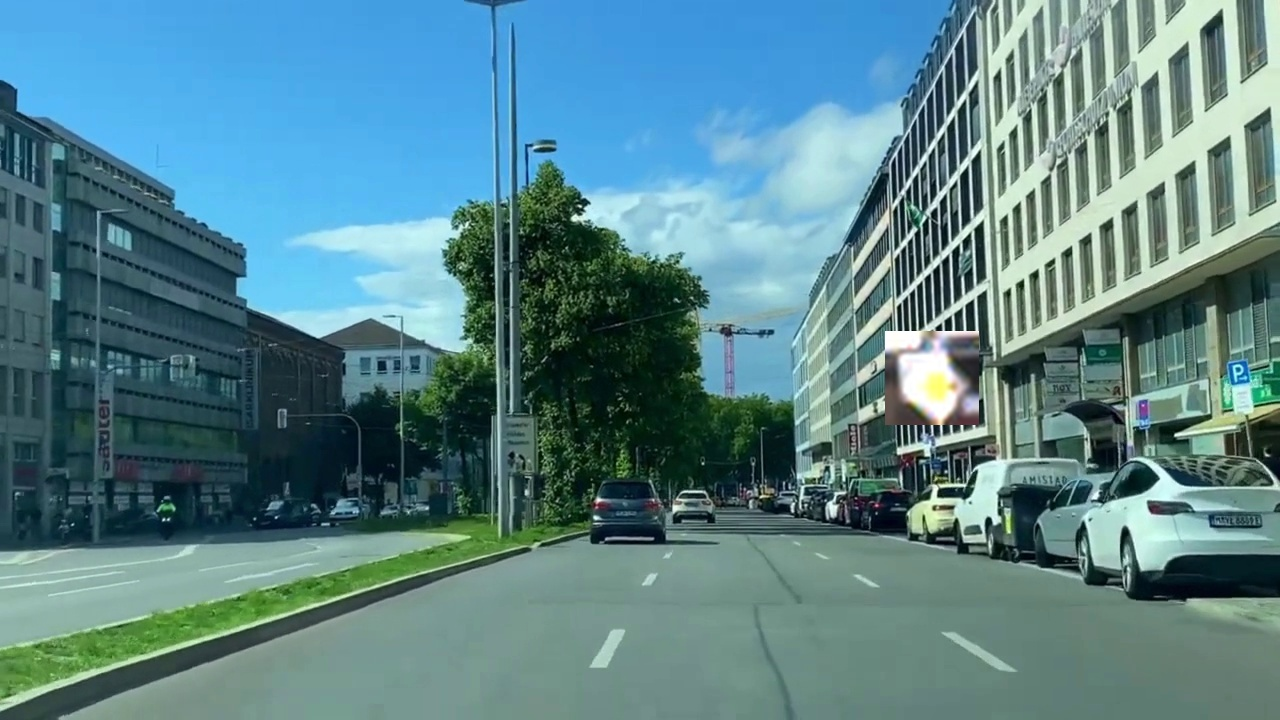Priority road: (885, 331, 979, 425)
